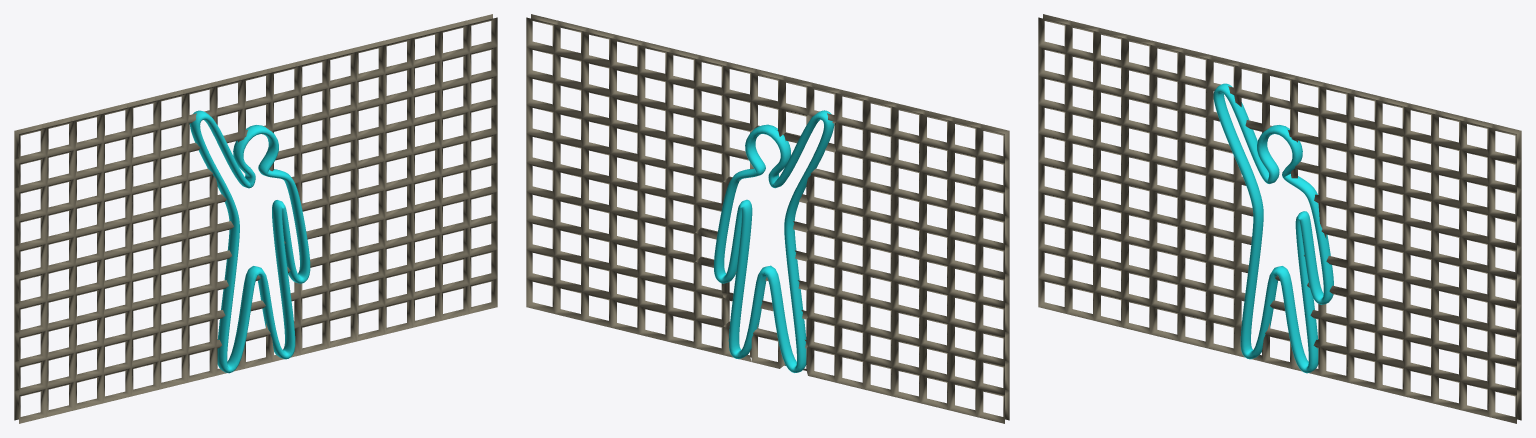
Rendered from [poo]_St2_Grid_51.fbx.
3 renders of one model, left to right at view 1: azimuth 30°, elevation 25°; view 2: azimuth 150°, elevation 25°; view 3: azimuth 330°, elevation 25°, orthographic.
Visible parts, largest first — view 1: Grid_51; view 2: Grid_51; view 3: Grid_51.
Part boxes in pixels (x1,y1,x2,y2): Grid_51: (14, 14, 497, 423); Grid_51: (526, 14, 1009, 423); Grid_51: (1038, 14, 1521, 423).
Size of the model in its own units: 1604 by 931 by 45.72.
